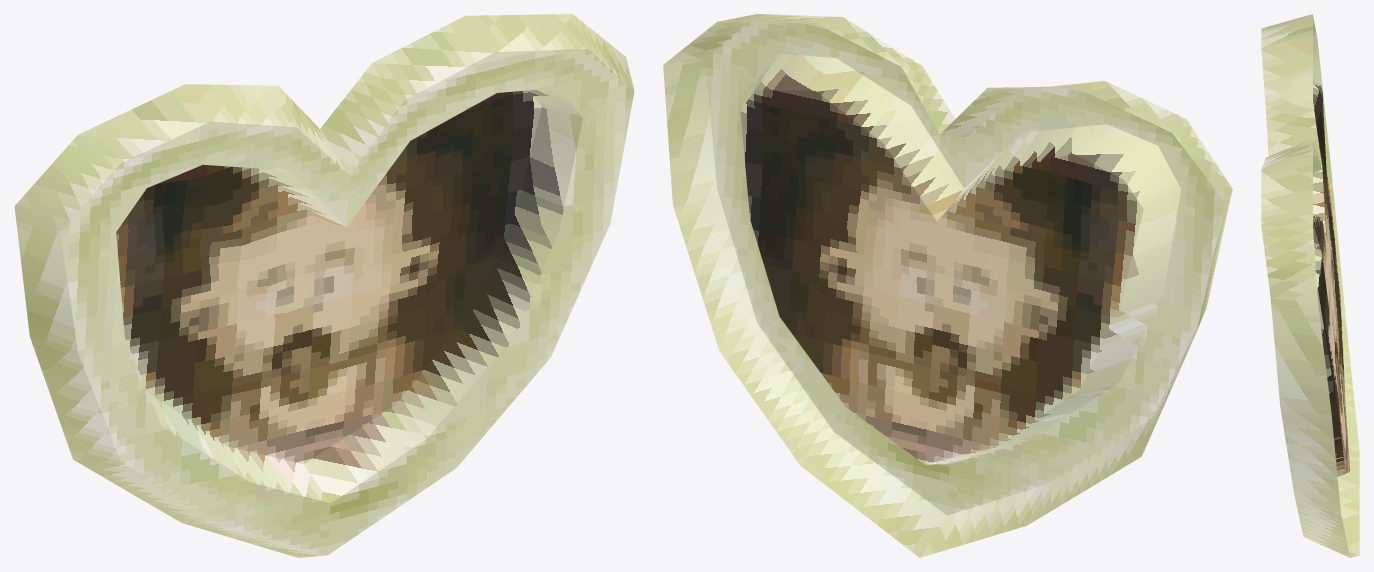
The model's file is pic24_1.glb.
3 views of the same model, side by side, from view 1: azimuth 30°, elevation 25°; view 2: azimuth 150°, elevation 25°; view 3: azimuth 270°, elevation 25° (orthographic). The views are drawn at different scales.
Parts seen in each view (by area): view 1: pic24_1; view 2: pic24_1; view 3: pic24_1.
Part boxes in pixels (x1,y1,x2,y2): pic24_1: [14, 14, 634, 557]; pic24_1: [663, 14, 1232, 557]; pic24_1: [1261, 14, 1359, 557].
Bounding box in the file's own units: 131 × 108 × 21.
1 material, 1 textured.
